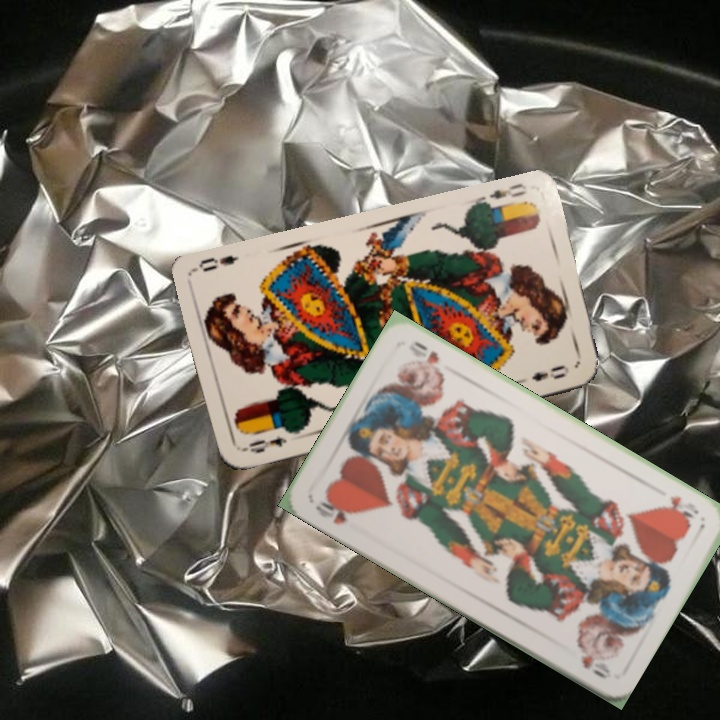EO: (475, 179, 530, 211), (237, 433, 289, 456)
HO: (311, 493, 355, 527), (658, 492, 702, 524)
